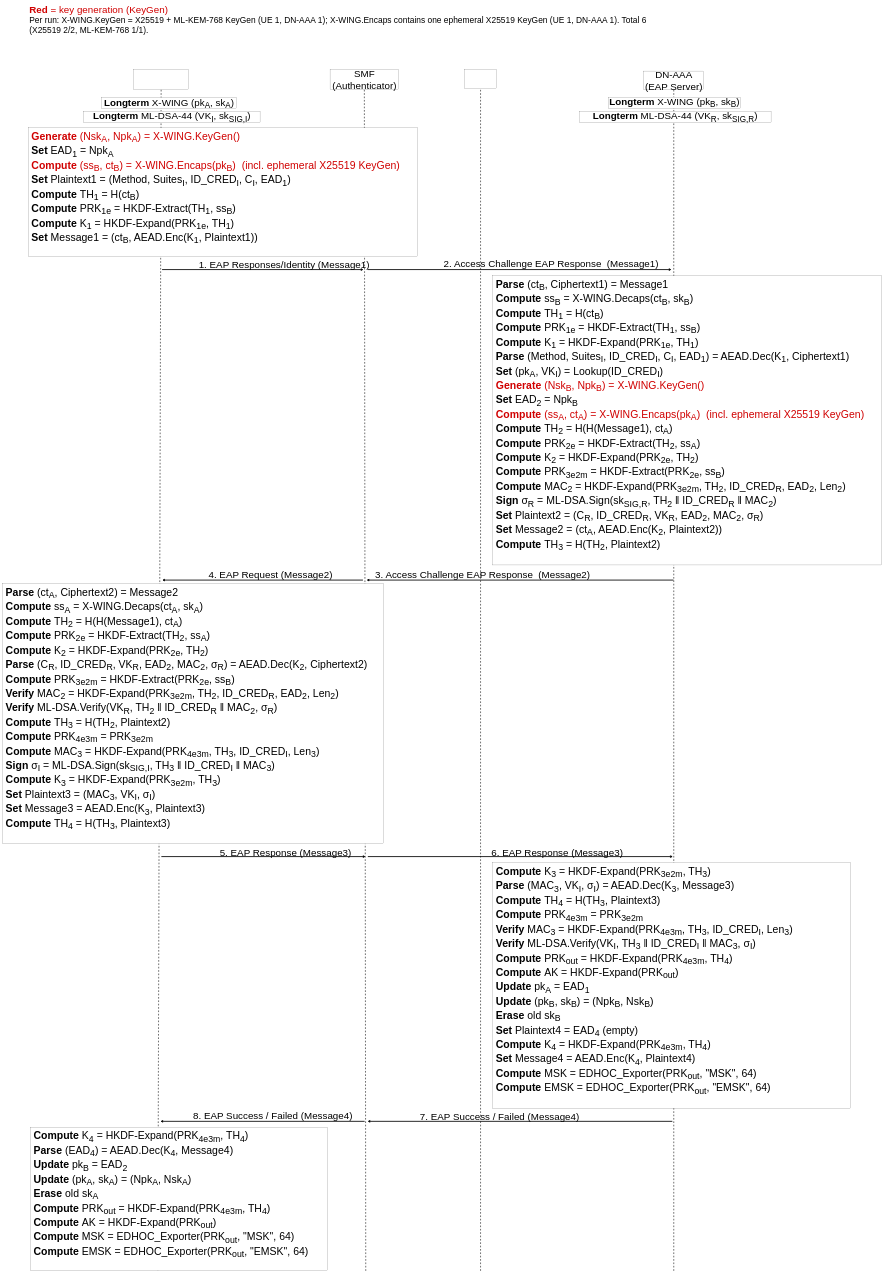
This 884x1274 diagram has some shape labels left out. The box of each missing label's shape, as (x1, y1, x2, y2) in pixels:
UE (EAP Client): (133, 70, 189, 89)
UPF: (464, 70, 497, 88)
